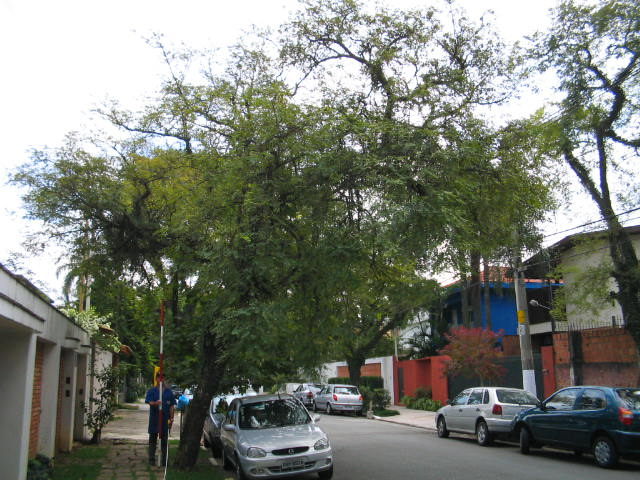crown: (61, 77, 561, 388)
stem: (172, 351, 226, 468)
stick: (153, 300, 168, 468)
tree: (58, 75, 562, 467)
